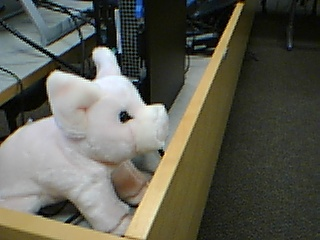piggy: (1, 44, 172, 236)
